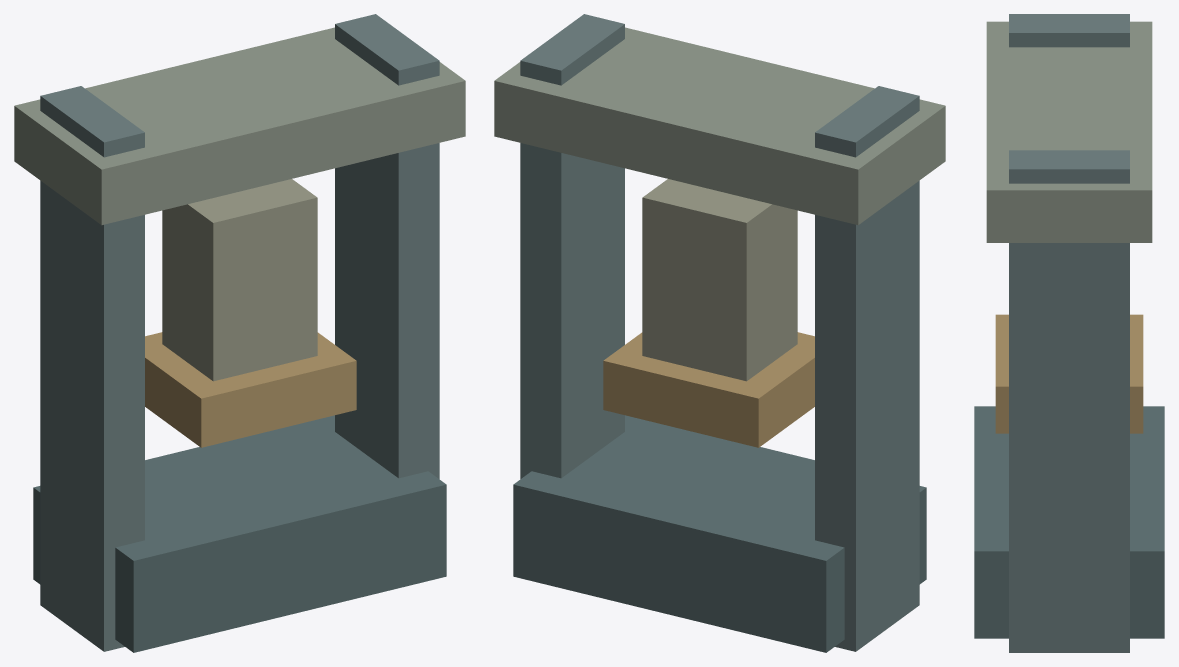
File: map-exclusive-v3__iron_02.glb
3 renders of one model, left to right at view 1: azimuth 30°, elevation 25°; view 2: azimuth 150°, elevation 25°; view 3: azimuth 270°, elevation 25°, orthographic. The views are drawn at different scales.
Visible parts, largest first — view 1: iron_02; view 2: iron_02; view 3: iron_02.
Part boxes in pixels (x1,y1,x2,y2): iron_02: (14, 14, 465, 652); iron_02: (494, 14, 945, 652); iron_02: (974, 14, 1164, 652).
Bounding box in the file's own units: 1.78 × 2.38 × 0.85.
